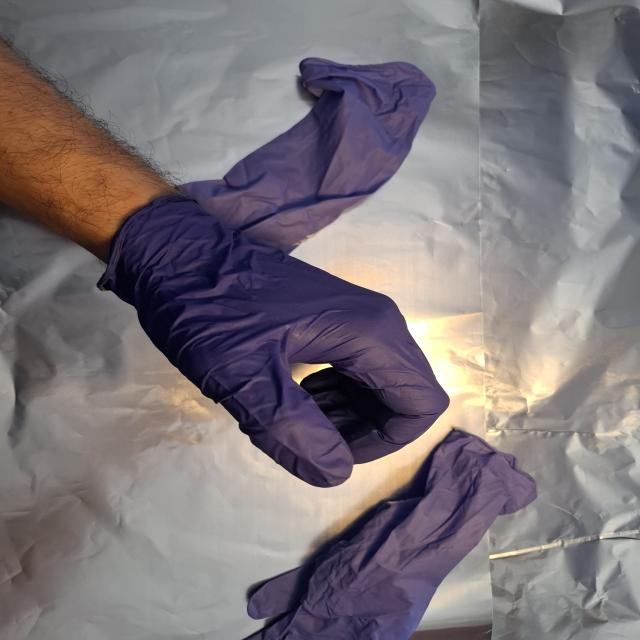glove_on: (91, 192, 452, 490)
